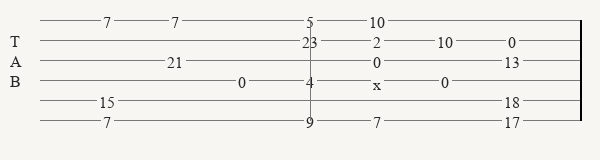0: (238, 73, 250, 88), (373, 53, 385, 68), (441, 73, 453, 88), (508, 33, 520, 48)
10: (369, 13, 389, 28), (437, 33, 457, 48)
13: (504, 53, 524, 68)
15: (99, 93, 119, 108)
17: (504, 113, 524, 128)
18: (504, 93, 524, 108)
2: (373, 33, 385, 48)
21: (167, 53, 187, 68)
23: (302, 33, 322, 48)
4: (306, 73, 318, 88)
5: (306, 13, 318, 28)
7: (103, 13, 115, 28), (103, 113, 115, 128), (171, 13, 183, 28), (373, 113, 385, 128)
9: (306, 113, 318, 128)
x: (373, 75, 385, 86)
